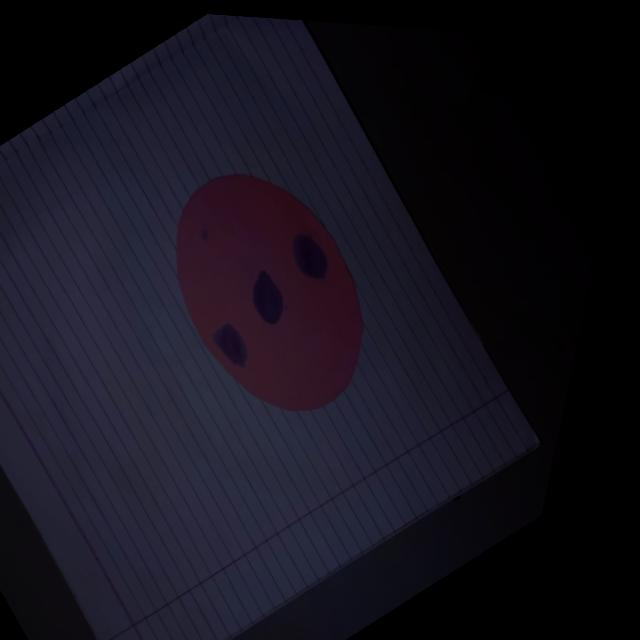BlueColor: (253, 270, 284, 325), (211, 323, 248, 368), (293, 233, 328, 279)
